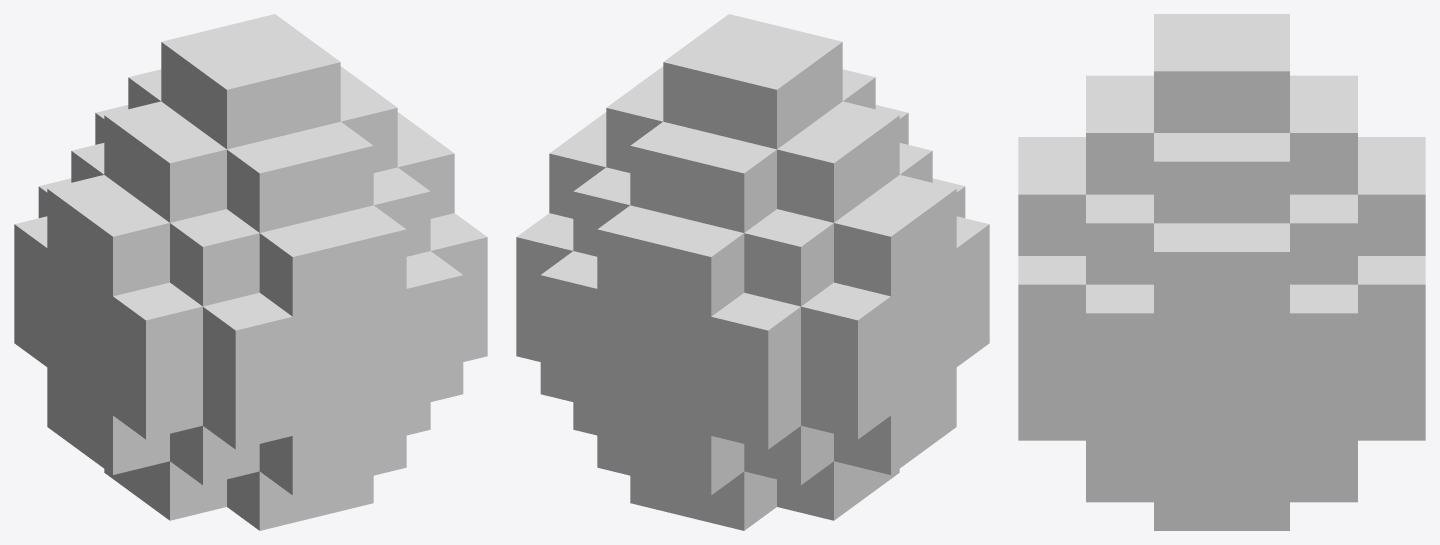
The model's file is egg white.obj.
3 renders of one model, left to right at view 1: azimuth 30°, elevation 25°; view 2: azimuth 150°, elevation 25°; view 3: azimuth 270°, elevation 25°, orthographic. The views are drawn at different scales.
Size of the model in its own units: 6 by 7 by 6.
Materials: 1 (1 with a texture image).
